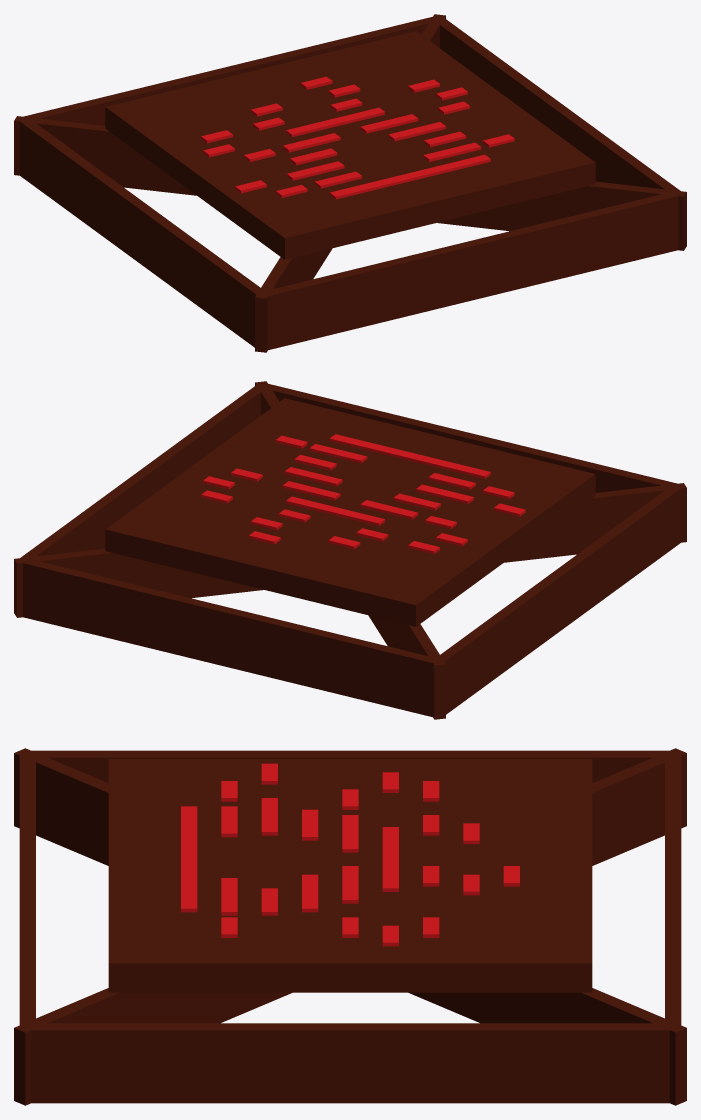
The model's file is BlastTrap.fbx.
3 renders of one model, top to bottom at view 1: azimuth 30°, elevation 25°; view 2: azimuth 150°, elevation 25°; view 3: azimuth 270°, elevation 25°, orthographic. The views are drawn at different scales.
Visible parts, largest first — view 1: Cube.006, Cube.007, Cube.012; view 2: Cube.006, Cube.007, Cube.012; view 3: Cube.006, Cube.007, Cube.012, Cube.022, Cube.009, Cube.011, Cube.020, Cube.023, Cube.008, Cube.010.
Part boxes in pixels (box(x1,y1,x2,y2)): Cube.006: box(14, 14, 686, 352); Cube.007: box(329, 154, 490, 199); Cube.012: box(286, 107, 384, 137); Cube.006: box(14, 381, 686, 719); Cube.007: box(329, 434, 490, 478); Cube.012: box(286, 496, 384, 525); Cube.006: box(14, 748, 686, 1105); Cube.007: box(181, 806, 197, 912); Cube.012: box(382, 827, 398, 891); Cube.022: box(302, 874, 318, 912); Cube.009: box(261, 798, 277, 835); Cube.011: box(342, 815, 358, 852); Cube.020: box(221, 878, 237, 915); Cube.023: box(342, 866, 358, 903); Cube.008: box(221, 806, 237, 837); Cube.010: box(302, 809, 318, 840).
Bounding box in the file's own units: 167 × 29 × 167.
